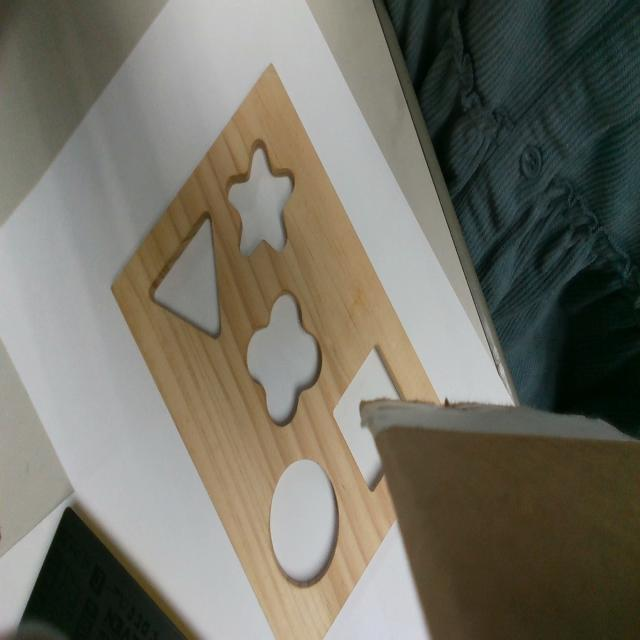circle: (270, 462, 339, 589)
flower: (246, 291, 323, 426)
square: (332, 342, 407, 494)
star: (226, 142, 294, 256)
triangle: (146, 209, 225, 341)
